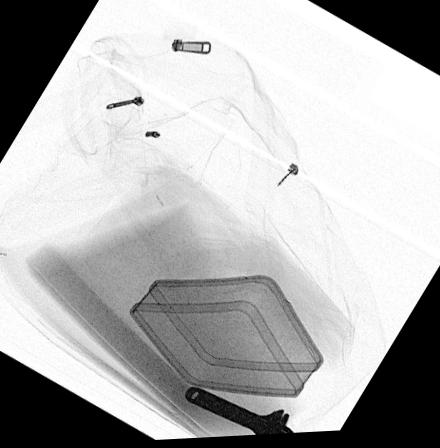Wrench: (184, 384, 299, 438)
